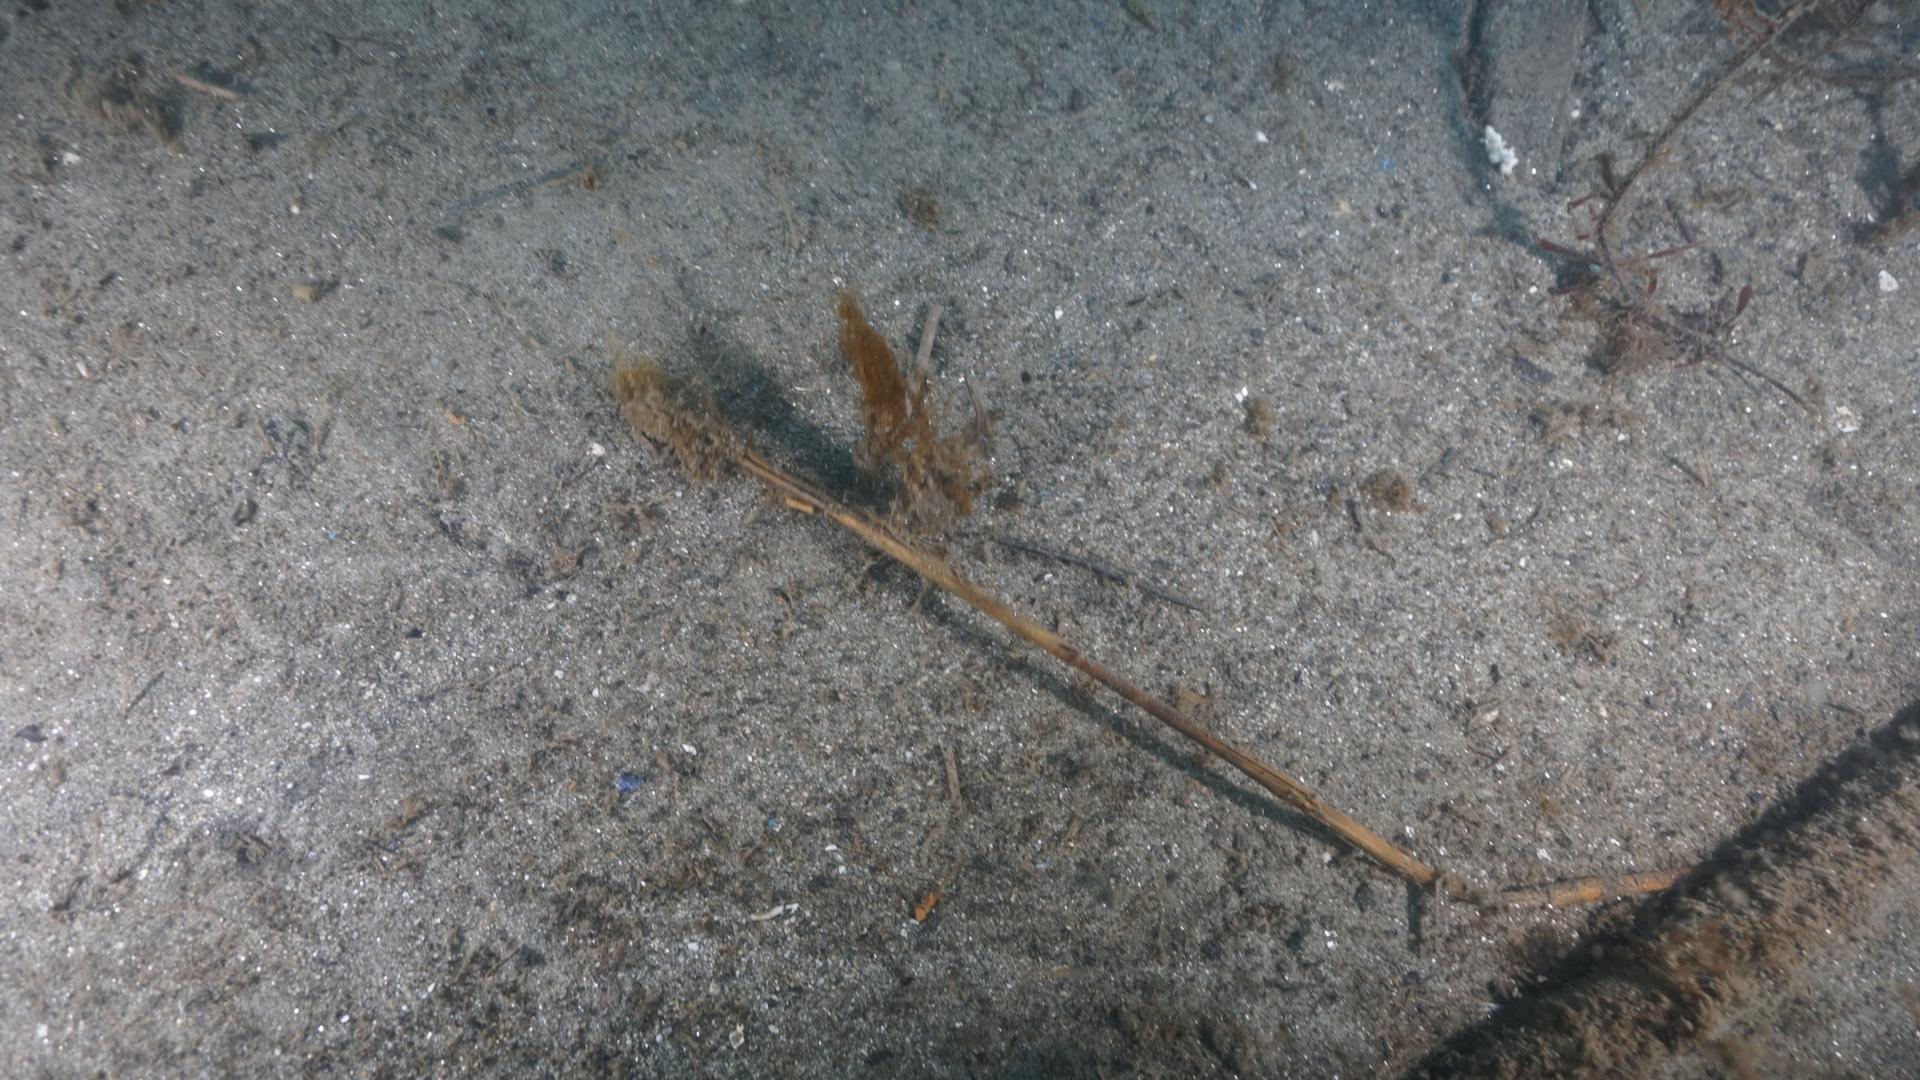wood: (736, 447, 1706, 910)
